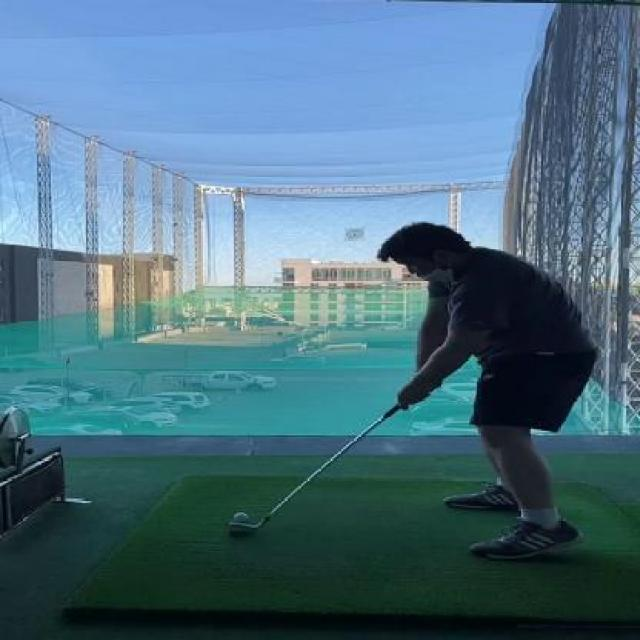club head: (218, 515, 272, 536)
